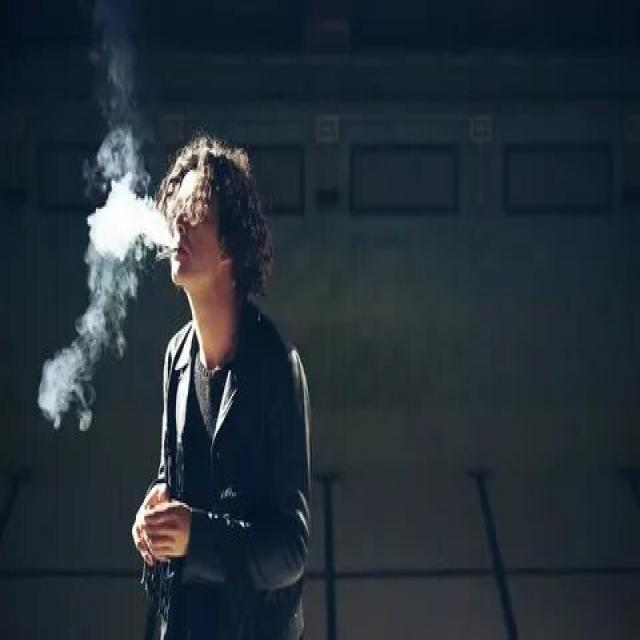cigarette: (155, 246, 184, 268)
